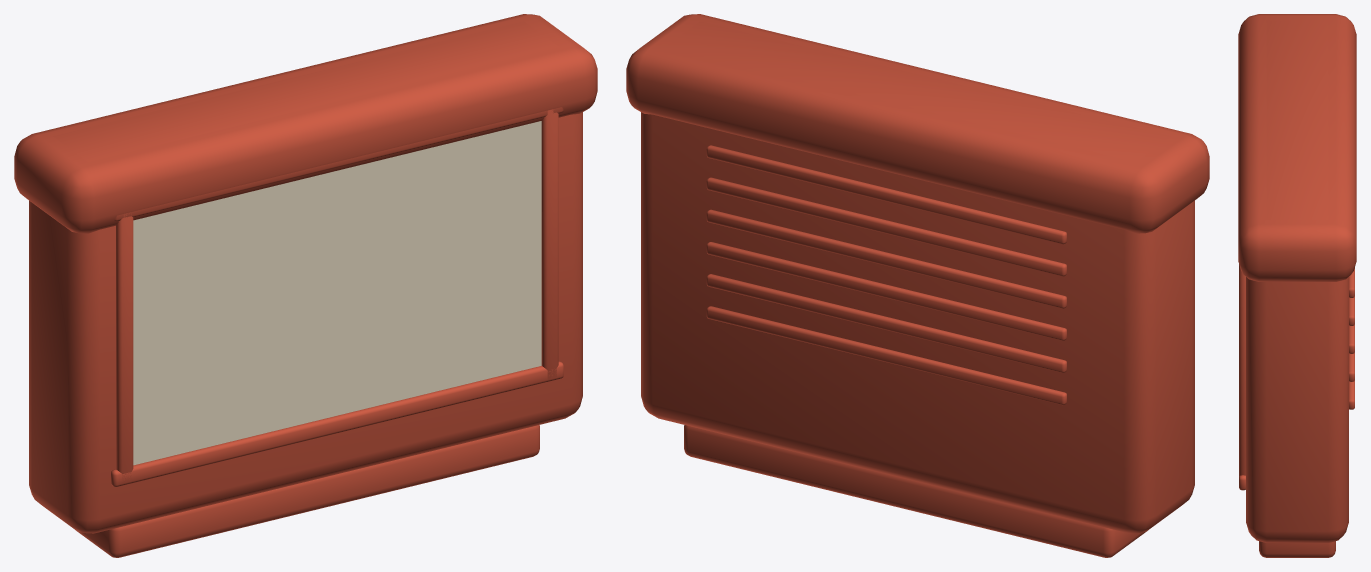
Rendered from cartridge.glb.
3 renders of one model, left to right at view 1: azimuth 30°, elevation 25°; view 2: azimuth 150°, elevation 25°; view 3: azimuth 270°, elevation 25°, orthographic. The views are drawn at different scales.
Parts seen in each view (by area): view 1: Label, Body, Cap, Connector, FrameBottom, FrameRight, FrameLeft, FrameTop; view 2: Body, Cap, Connector, Ridge4, Ridge5, Ridge1, Ridge0, Ridge2, Ridge3; view 3: Body, Cap, FrameRight, Connector, Ridge0, Ridge1, Ridge2, Ridge3.
Boxes of the visible parts, box(x1,y1,x2,y2) form: Label: box(133, 121, 541, 465); Body: box(29, 21, 582, 533); Cap: box(14, 14, 597, 233); Connector: box(77, 425, 539, 557); FrameBottom: box(111, 361, 563, 486); FrameRight: box(541, 109, 558, 380); FrameLeft: box(116, 213, 133, 484); FrameTop: box(114, 107, 563, 221); Body: box(641, 21, 1194, 533); Cap: box(626, 14, 1209, 233); Connector: box(684, 425, 1146, 557); Ridge4: box(706, 177, 1066, 276); Ridge5: box(706, 145, 1066, 244); Ridge1: box(706, 274, 1066, 372); Ridge0: box(706, 306, 1066, 404); Ridge2: box(706, 242, 1066, 340); Ridge3: box(706, 209, 1066, 308); Body: box(1246, 20, 1348, 542); Cap: box(1238, 14, 1356, 281); FrameRight: box(1239, 264, 1245, 476); Connector: box(1259, 541, 1335, 557); Ridge0: box(1349, 380, 1354, 409); Ridge1: box(1349, 352, 1354, 381); Ridge2: box(1349, 324, 1354, 353); Ridge3: box(1349, 296, 1354, 325).
Bounding box in the file's own units: 0.104 × 0.075 × 0.023.
